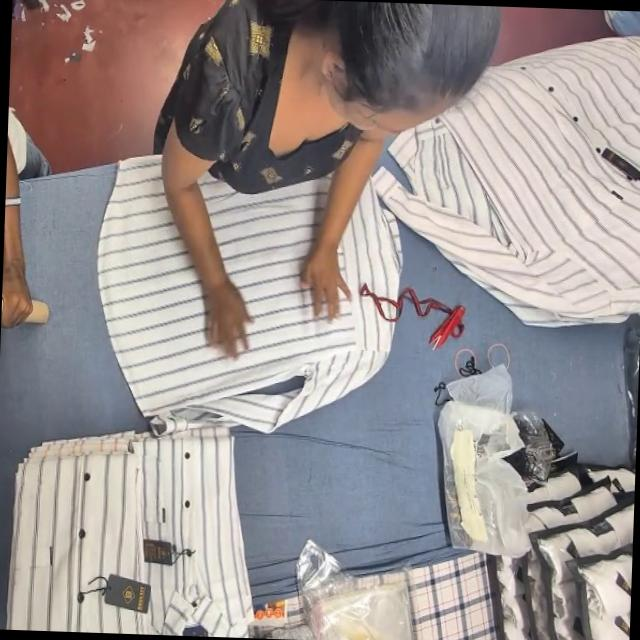new-garment: (97, 156, 392, 429), (338, 187, 400, 296)
